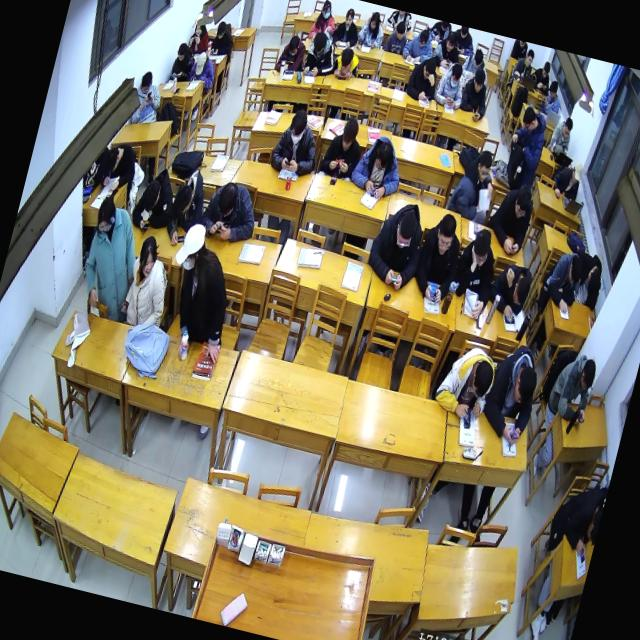bow: (196, 174, 264, 250), (160, 162, 214, 252), (127, 162, 182, 240), (483, 259, 536, 326), (540, 245, 588, 318), (96, 137, 142, 199), (328, 44, 364, 86)
down: (508, 363, 540, 410), (430, 211, 460, 260), (390, 208, 420, 254), (466, 358, 496, 403), (212, 179, 241, 222), (92, 193, 120, 237), (468, 227, 494, 270), (137, 176, 164, 216), (169, 180, 196, 220), (285, 108, 311, 148), (576, 356, 600, 396), (337, 116, 361, 154), (508, 273, 532, 310), (371, 140, 395, 176), (564, 254, 586, 289), (101, 144, 124, 177), (582, 264, 604, 296), (518, 104, 540, 134), (309, 29, 329, 58), (567, 159, 586, 189), (419, 56, 439, 84), (469, 68, 488, 96), (446, 61, 464, 90), (137, 69, 155, 97), (284, 34, 302, 60), (338, 46, 356, 71), (192, 50, 208, 77), (558, 115, 574, 142), (173, 40, 190, 64), (442, 30, 459, 54), (415, 27, 431, 50), (367, 10, 382, 34), (213, 19, 228, 42), (545, 79, 560, 102), (471, 48, 486, 70), (539, 60, 552, 80)
lookup: (191, 18, 206, 41), (342, 6, 356, 30), (522, 48, 536, 72)
sit: (152, 220, 249, 368), (72, 194, 150, 324), (476, 338, 548, 448), (362, 194, 434, 296), (116, 232, 181, 336), (428, 336, 502, 426), (407, 205, 470, 308), (444, 222, 506, 322), (543, 475, 608, 561), (485, 172, 541, 260), (542, 346, 602, 428), (267, 103, 328, 181), (346, 130, 409, 204), (500, 103, 552, 192), (448, 168, 508, 243), (316, 112, 369, 184), (570, 249, 610, 313), (299, 26, 342, 82), (402, 50, 443, 106), (128, 68, 166, 128), (456, 64, 494, 124), (431, 58, 470, 113), (548, 154, 586, 206), (399, 21, 438, 68), (273, 31, 309, 79), (329, 4, 365, 52), (306, 0, 341, 46), (354, 7, 390, 51), (431, 27, 466, 72), (186, 48, 220, 92), (168, 40, 199, 85), (546, 112, 576, 158), (382, 17, 413, 58), (184, 16, 214, 58), (536, 78, 566, 119), (509, 44, 538, 86), (208, 18, 238, 58), (460, 45, 492, 80), (528, 59, 555, 95)
